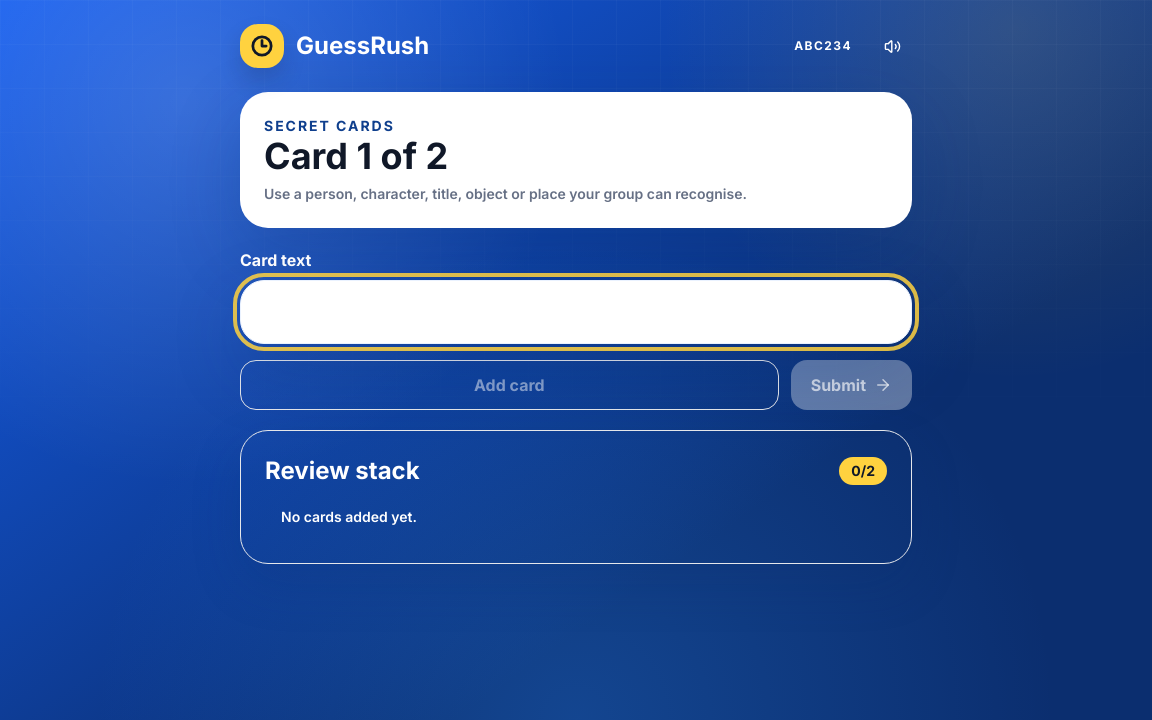
Test case: CardSubmissionPage › blocks duplicate cards before submission
Expected: the heading "Card 1 of 2" is shown, [264, 134, 448, 178]
Type "Moon Pancake" into the field labelled "Card text" at coordinates (576, 312), box [240, 280, 912, 344]
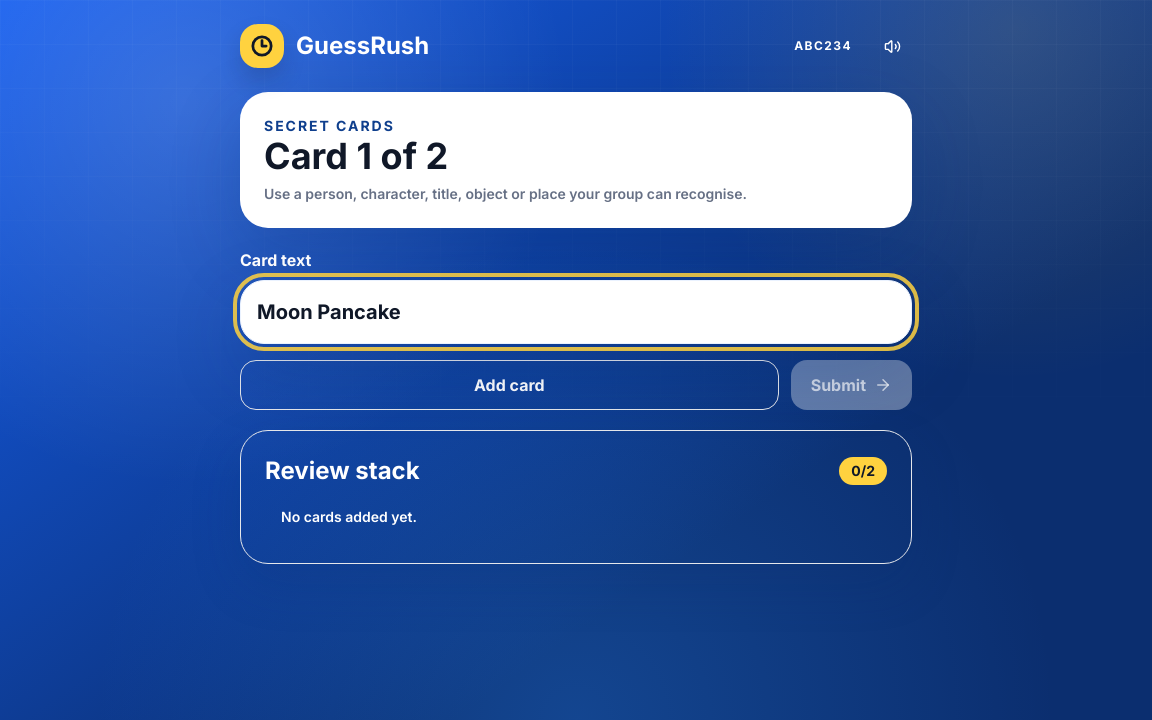
Click the button "Add card" at coordinates (509, 385), box [240, 360, 779, 410]
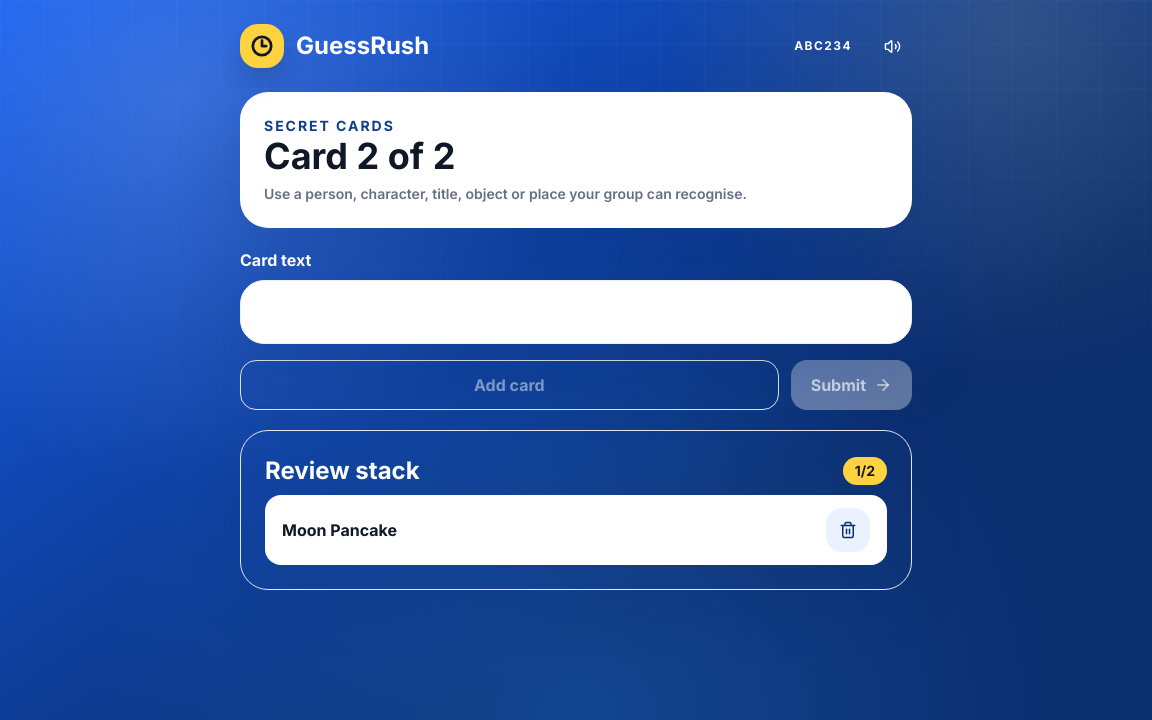
Type "moon pancake" into the field labelled "Card text" at coordinates (576, 312), box [240, 280, 912, 344]
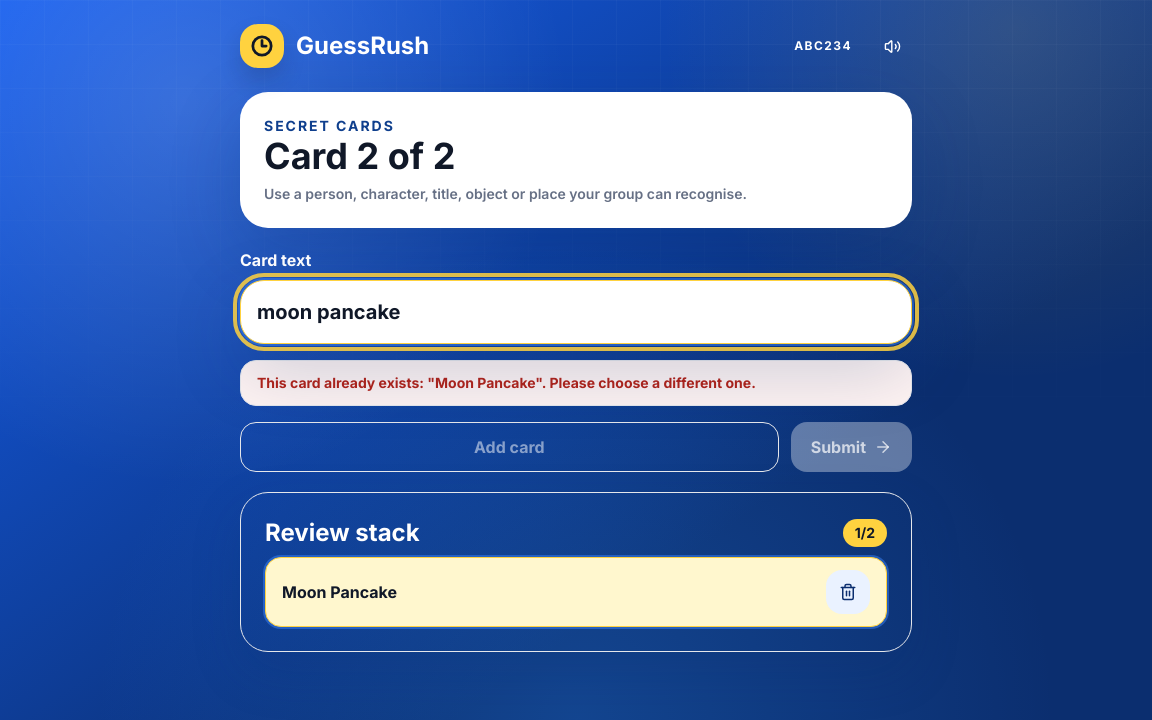
Expected: the button "Add card" is disabled, [240, 422, 779, 472]
Expected: the text "This card already exists: \"Moon Pancake\". Please choose a different one." is shown, [240, 360, 912, 406]
